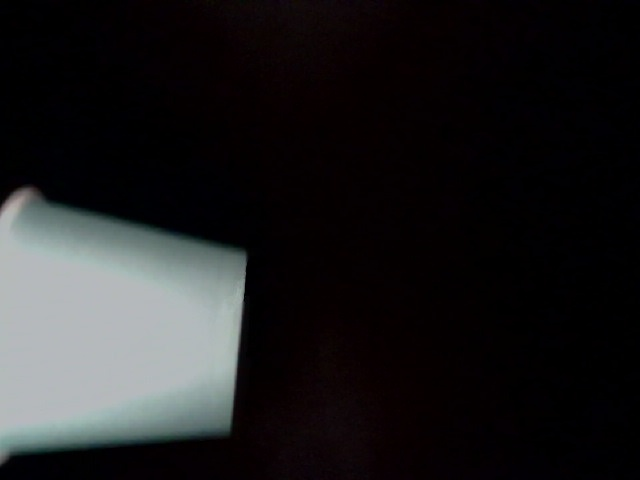CYLJ: (555, 210, 640, 316)
